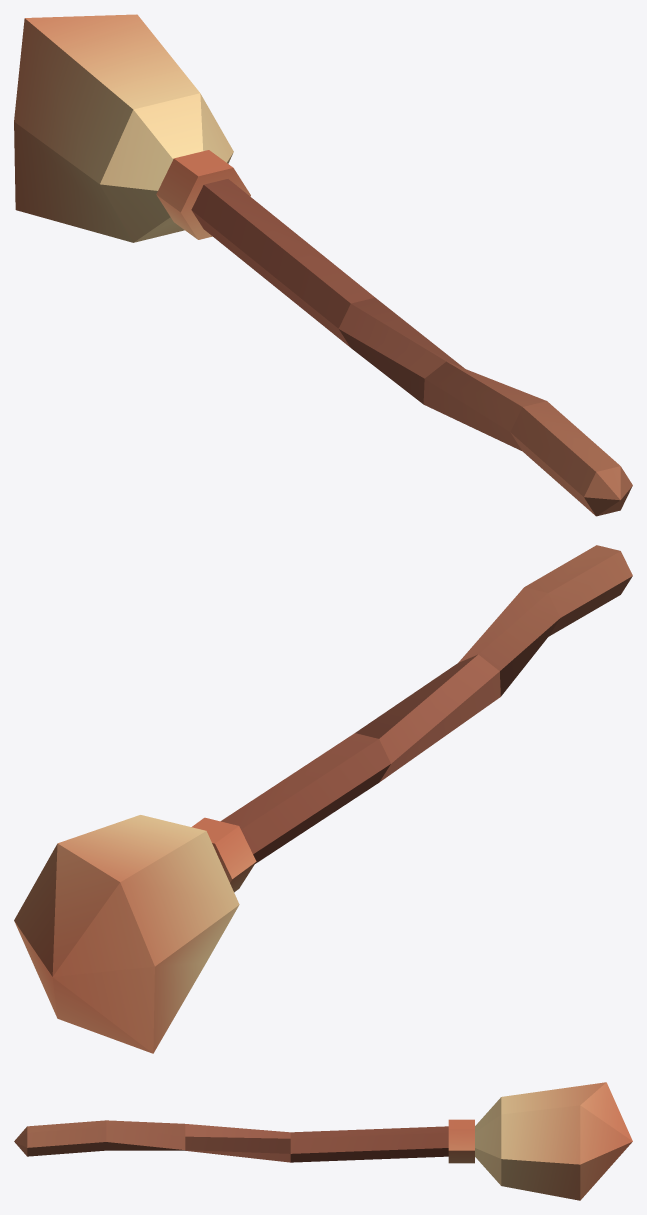
The model's file is broom.obj.
3 renders of one model, top to bottom at view 1: azimuth 30°, elevation 25°; view 2: azimuth 150°, elevation 25°; view 3: azimuth 270°, elevation 25°, orthographic. The views are drawn at different scales.
Parts seen in each view (by area): view 1: cylinder; view 2: cylinder; view 3: cylinder.
Part boxes in pixels (bbox=[...]): cylinder: bbox=[14, 14, 632, 516]; cylinder: bbox=[14, 545, 632, 1053]; cylinder: bbox=[14, 1082, 632, 1200].
Bounding box in the file's own units: 0.4568 × 0.5 × 2.94.
Materials: 1 (1 with a texture image).
